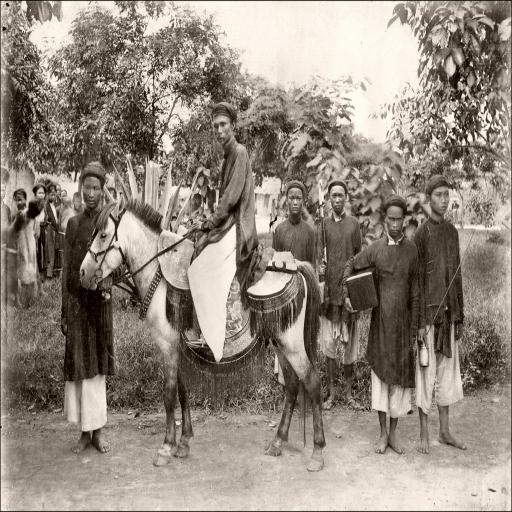horse: (78, 194, 326, 474)
